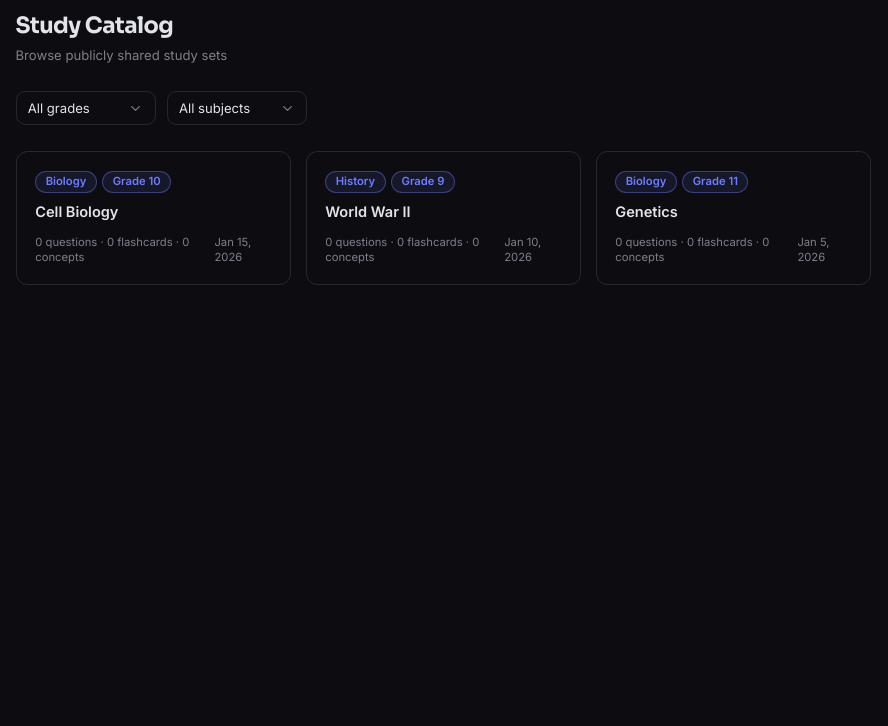
CatalogPage — filtering › filters preps by discipline
Click the dropdown named "filter by subject" at (237, 108), box [167,91,307,125]
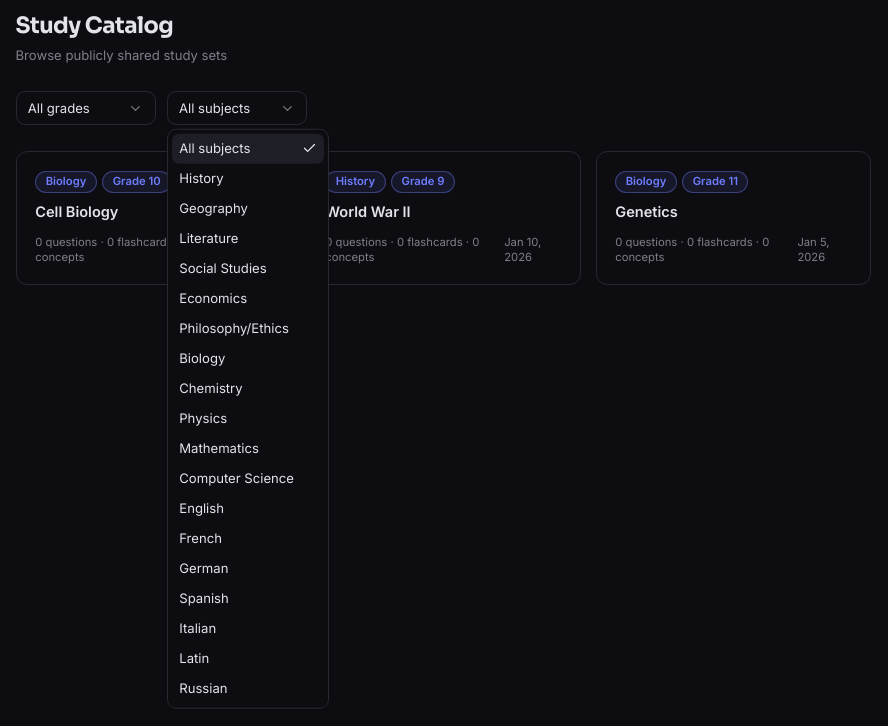
Click the option "Biology" at (202, 358), box [179,350,225,366]
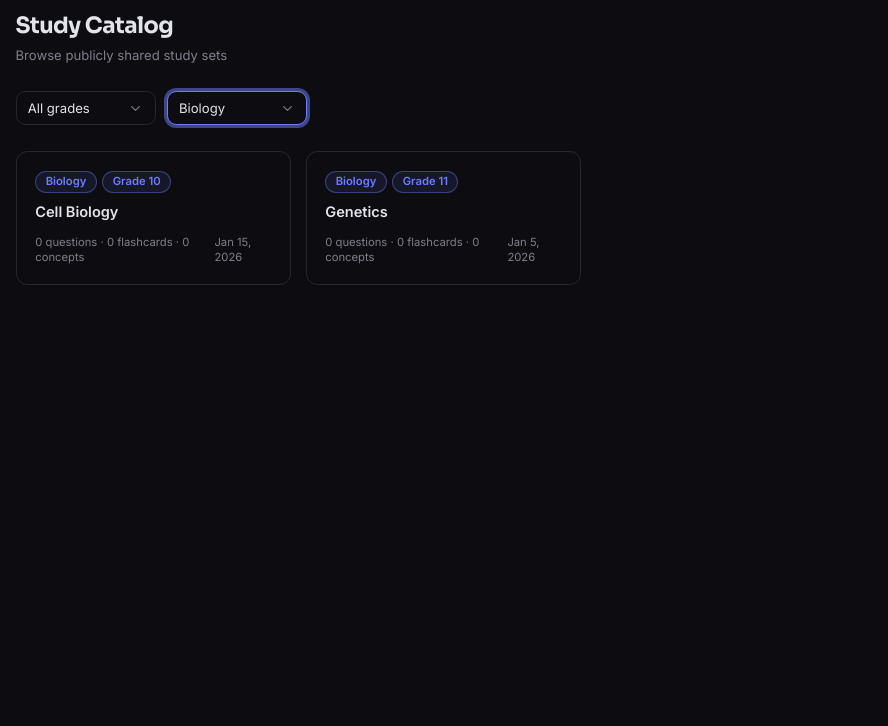
Check: the heading "Cell Biology" is shown, box [35,203,118,221]
Check: the link "World War II" is gone
